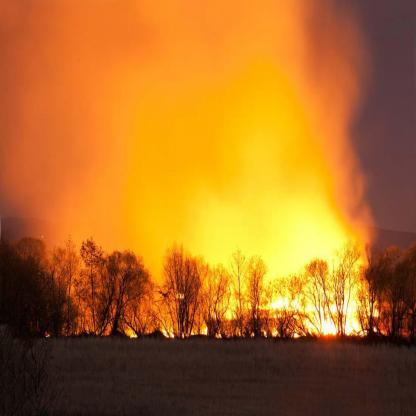fire: (57, 119, 383, 335)
